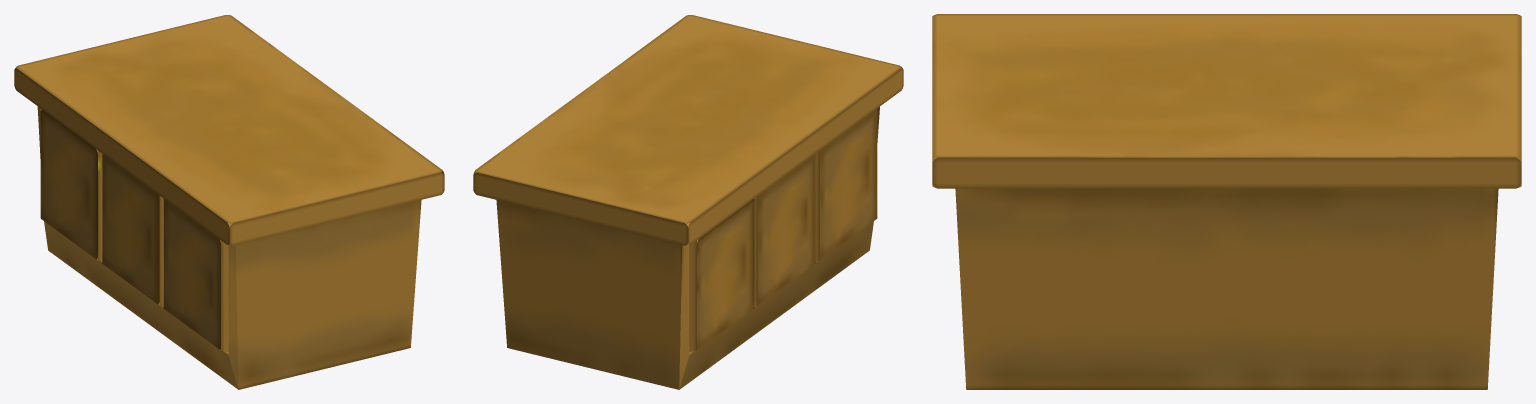
The model's file is table4.fbx.
The picture shows the model from 3 angles, left to right: view 1: azimuth 30°, elevation 25°; view 2: azimuth 150°, elevation 25°; view 3: azimuth 270°, elevation 25°; orthographic projection. The views are drawn at different scales.
Visible parts, largest first — view 1: cuboid; view 2: cuboid; view 3: cuboid.
Boxes of the visible parts, bbox=[...] form: cuboid: bbox=[14, 15, 444, 389]; cuboid: bbox=[473, 15, 903, 389]; cuboid: bbox=[932, 14, 1521, 389].
Size of the model in its own units: 188 by 150 by 325.
1 material, 1 textured.
